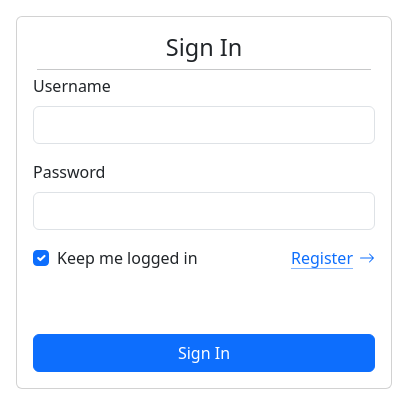
Test: Login Component › displays error message when username is empty
The width and height of the screenshot is (409, 406).
(page scrolled)
Click the button "Sign In" at (204, 353), box top-left (33, 334), bottom-right (375, 372)
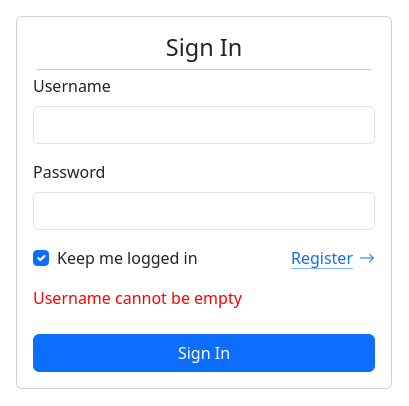
Expected: the text "Username cannot be empty" is shown, top-left (33, 287), bottom-right (242, 309)
